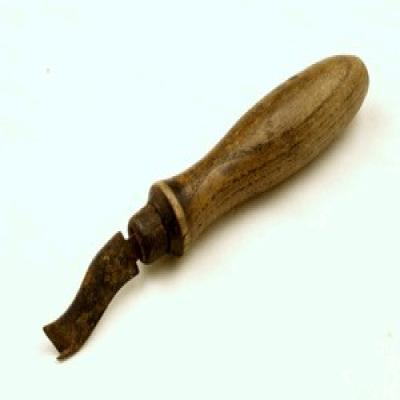technique: (43, 53, 371, 363)
